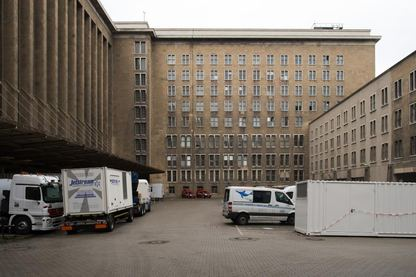truck: (57, 163, 139, 235), (4, 173, 67, 238), (133, 172, 154, 215), (153, 179, 168, 199)
